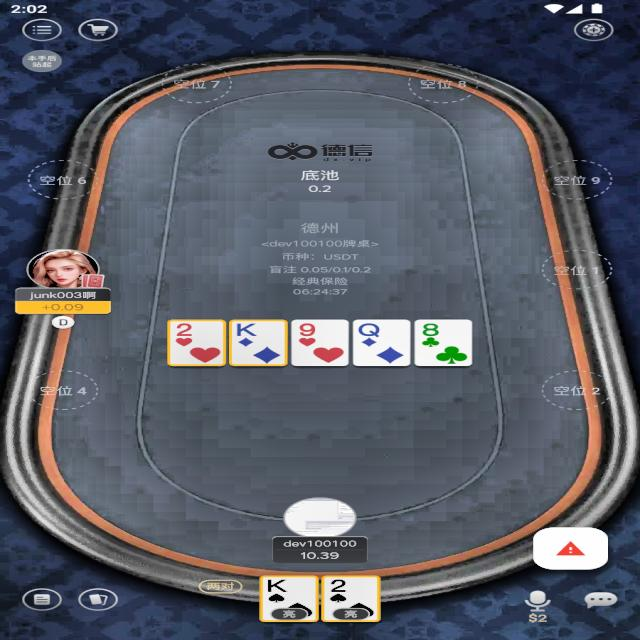2h: (172, 322, 198, 338)
2s: (326, 578, 350, 594)
8m: (421, 322, 444, 338)
9h: (295, 321, 322, 339)
Kf: (231, 321, 264, 338)
Ks: (264, 578, 290, 594)
Qf: (358, 321, 383, 338)
